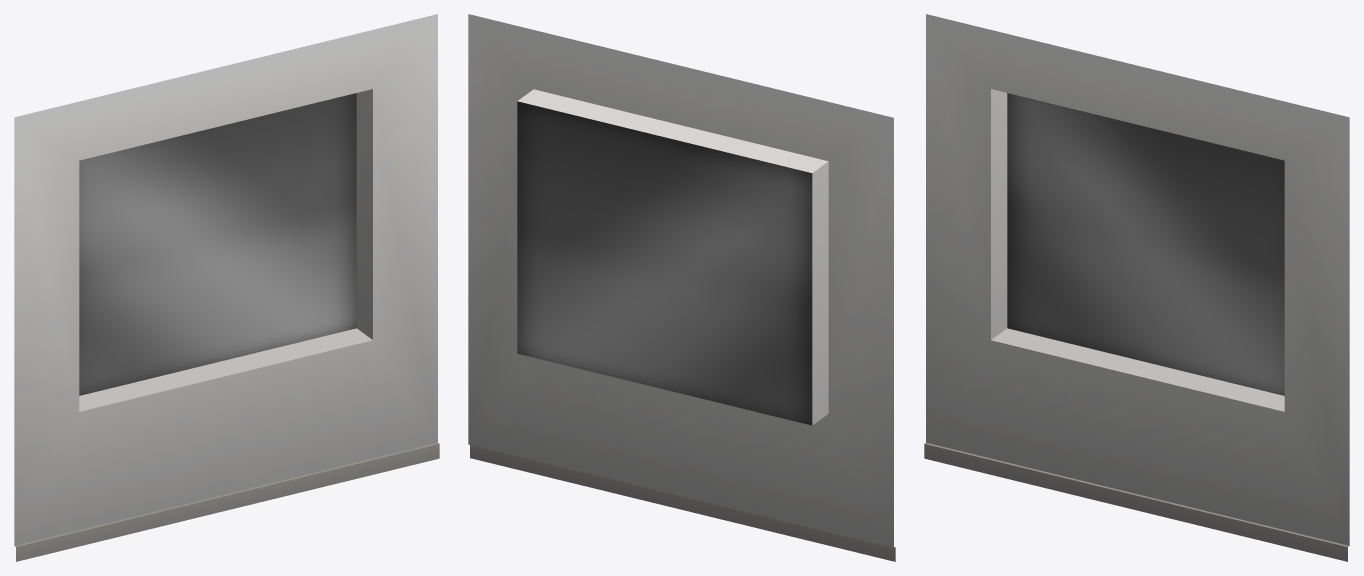
File: Wall_3m_A_Window_B.fbx
3 renders of one model, left to right at view 1: azimuth 30°, elevation 25°; view 2: azimuth 150°, elevation 25°; view 3: azimuth 330°, elevation 25°, orthographic.
Visible parts, largest first — view 1: Wall_3m_A_Window_B; view 2: Wall_3m_A_Window_B; view 3: Wall_3m_A_Window_B.
Part boxes in pixels (x1,y1,x2,y2): Wall_3m_A_Window_B: [14, 14, 439, 561]; Wall_3m_A_Window_B: [468, 14, 895, 561]; Wall_3m_A_Window_B: [924, 14, 1349, 561].
Bounding box in the file's own units: 300 × 300 × 22.
